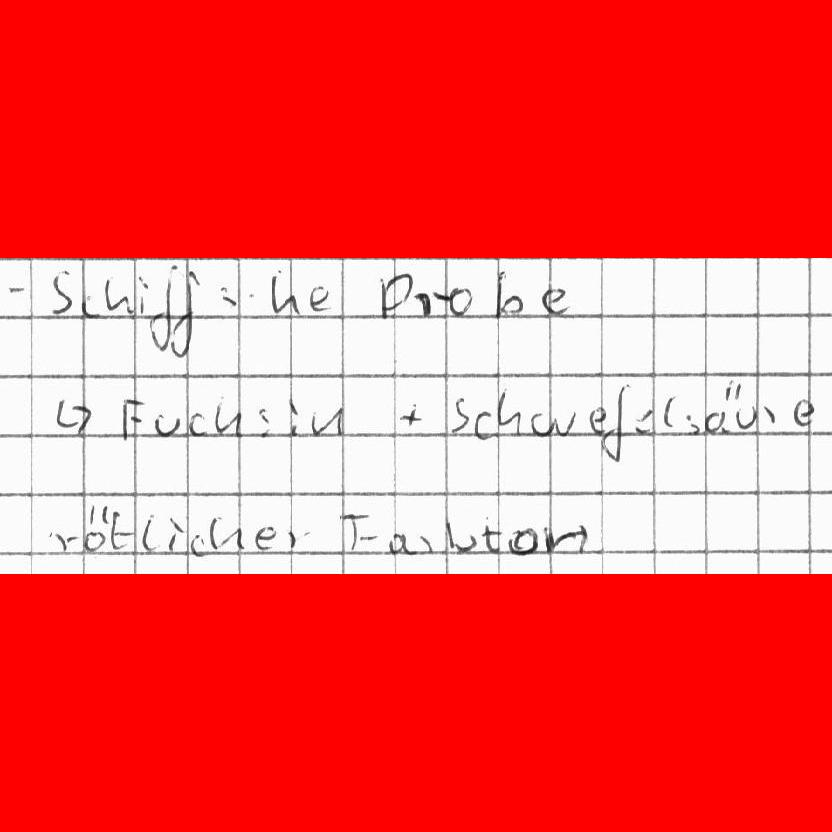Char: (600, 383, 632, 462), (170, 269, 197, 360), (703, 378, 742, 435), (148, 265, 173, 353), (267, 267, 302, 318), (378, 274, 413, 321), (493, 268, 524, 321), (55, 396, 95, 437), (338, 511, 378, 552), (117, 396, 148, 445), (530, 408, 579, 439), (542, 524, 587, 555), (495, 386, 522, 437), (209, 515, 247, 551), (210, 396, 243, 437), (103, 273, 134, 315), (83, 504, 108, 553), (49, 268, 74, 315), (308, 405, 343, 437), (412, 288, 448, 319), (506, 526, 541, 557), (110, 510, 135, 553), (449, 395, 473, 436), (540, 285, 569, 318), (447, 285, 474, 318), (307, 283, 335, 314), (141, 514, 163, 552), (789, 397, 815, 428), (47, 529, 80, 553), (479, 522, 503, 554), (256, 404, 276, 442), (153, 412, 183, 437), (166, 515, 185, 553), (387, 531, 417, 555), (473, 409, 495, 441), (734, 403, 759, 431), (400, 401, 425, 428), (586, 405, 607, 436), (286, 395, 301, 437), (254, 525, 277, 552), (79, 291, 101, 319), (134, 274, 148, 317), (216, 282, 237, 310), (661, 394, 677, 430), (285, 528, 311, 549), (634, 408, 654, 434), (189, 411, 207, 437), (418, 532, 437, 556), (1, 281, 28, 297), (190, 533, 206, 558), (684, 413, 701, 436)
